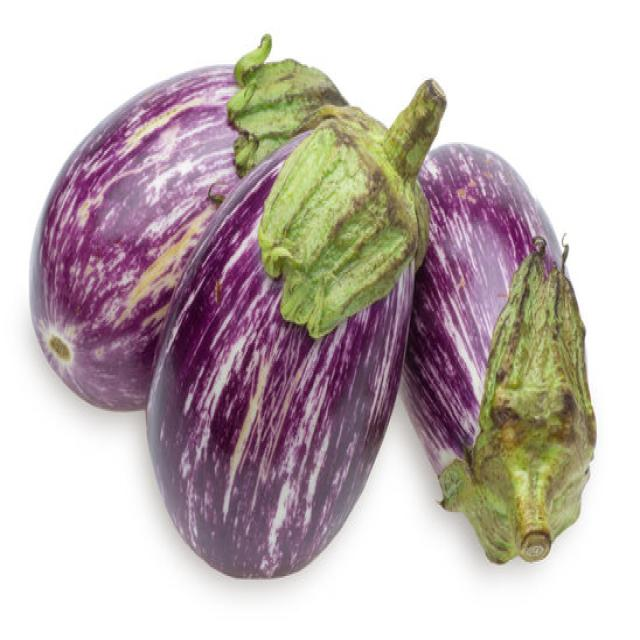Eggplant: (144, 70, 447, 580), (27, 55, 347, 413), (399, 139, 597, 565)
